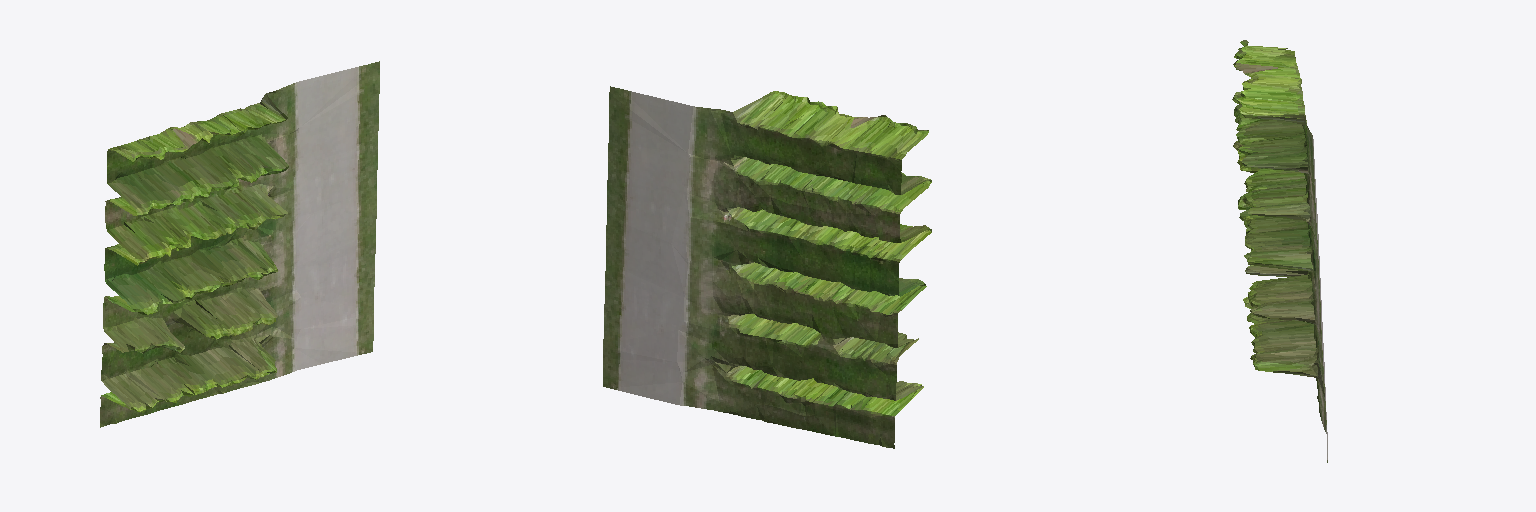
3 views of the same model, side by side, from view 1: azimuth 30°, elevation 25°; view 2: azimuth 150°, elevation 25°; view 3: azimuth 270°, elevation 25° (orthographic).
Parts seen in each view (by area): view 1: grp1; view 2: grp1; view 3: grp1.
Boxes of the visible parts, x1,y1,x2,y2 form: grp1: [100, 61, 379, 427]; grp1: [603, 86, 931, 448]; grp1: [1232, 40, 1327, 462].
Size of the model in its own units: 10 by 10 by 2.95.
Materials: 1 (1 with a texture image).